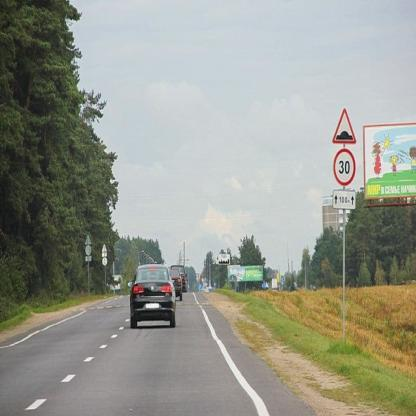road_sign: (333, 108, 357, 146), (333, 148, 355, 186)
